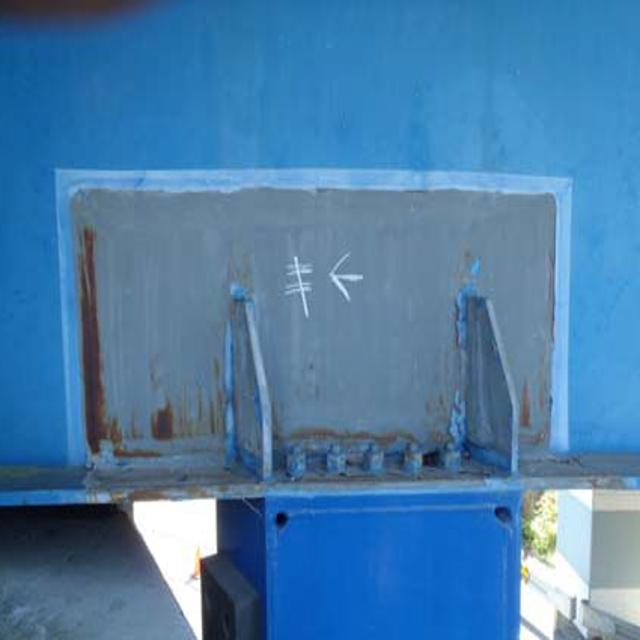corrosion: (78, 233, 143, 466)
